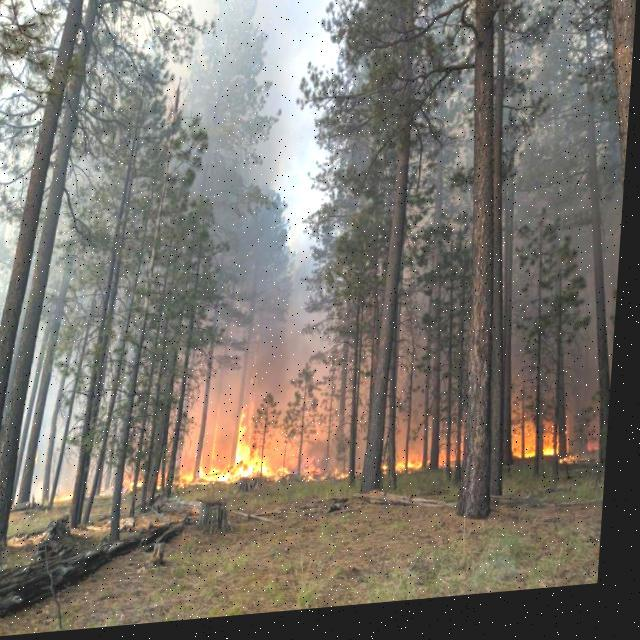Fire: (185, 412, 308, 493), (516, 442, 574, 473), (383, 458, 436, 488)
